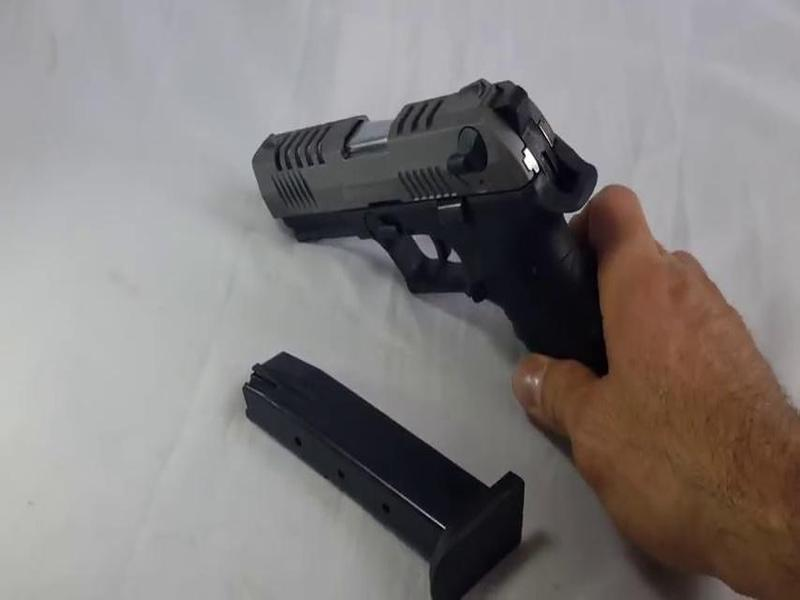Pistola: (244, 76, 609, 363)
